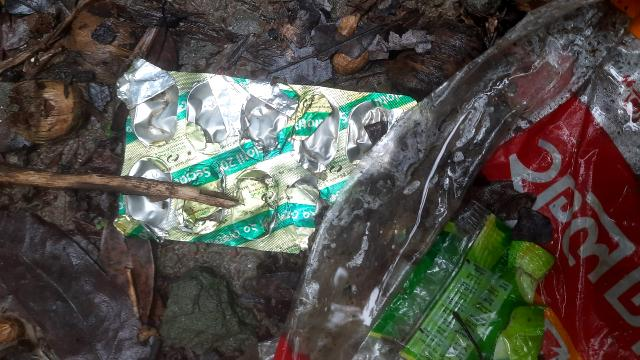medicine: (112, 63, 420, 263)
